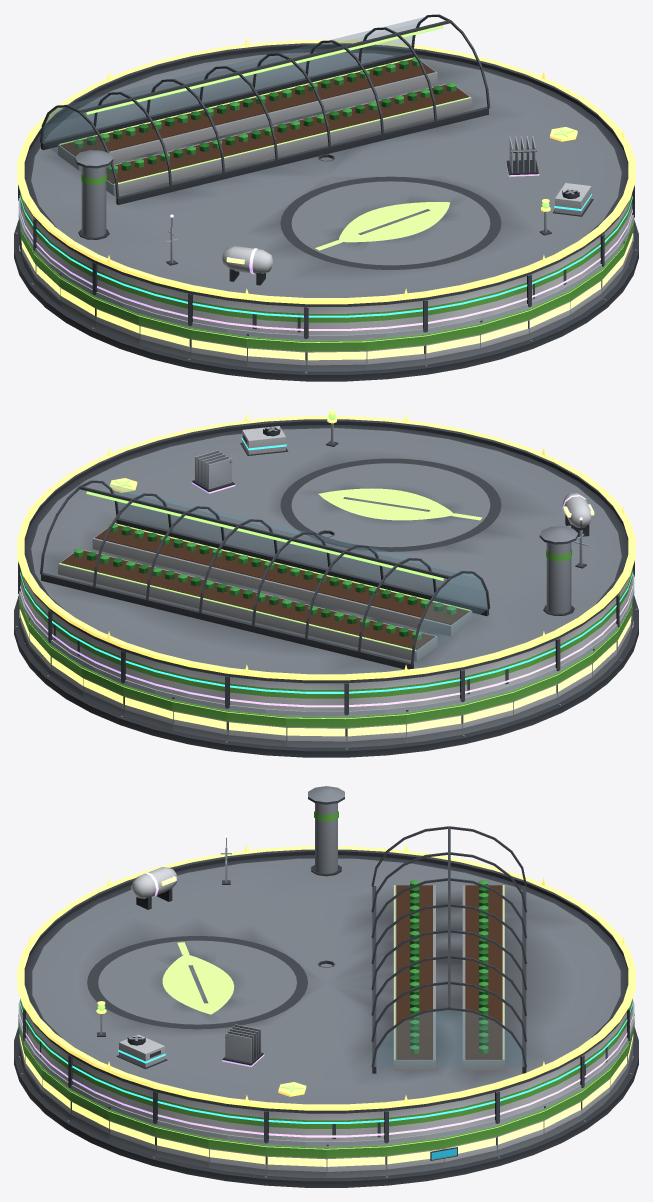
Rendered from kitchen_xl.glb.
3 views of the same model, one above another, from view 1: azimuth 30°, elevation 25°; view 2: azimuth 150°, elevation 25°; view 3: azimuth 270°, elevation 25° (orthographic).
Parts seen in each view (by area): view 1: Roof, Base, L4, Wall_21, Wall_20, Wall_22, Wall_19, Wall_23, Wall_18, Wall_24, Upper_22, Upper_21 (+20 smaller); view 2: Roof, Base, L4, Wall_11, Wall_10, Wall_09, Wall_12, Wall_08, Wall_13, Wall_07, Upper_10, Upper_09 (+23 smaller); view 3: Roof, Base, L4, Wall_00, Wall_31, Wall_30, Wall_01, Wall_29, Wall_02, Upper_31, Wall_28, Wall_03 (+19 smaller).
Part boxes in pixels (<box>): Roof: <box>24,14,628,306</box>; Base: <box>14,219,638,381</box>; L4: <box>222,136,539,285</box>; Wall_21: <box>306,338,366,371</box>; Wall_20: <box>246,334,306,371</box>; Wall_22: <box>366,333,425,370</box>; Wall_19: <box>190,326,246,367</box>; Wall_23: <box>425,322,480,364</box>; Wall_18: <box>139,313,190,358</box>; Wall_24: <box>480,308,529,353</box>; Upper_22: <box>366,300,425,333</box>; Upper_21: <box>306,306,366,338</box>; Roof: <box>24,419,628,683</box>; Base: <box>14,595,638,757</box>; L4: <box>191,450,594,536</box>; Wall_11: <box>346,711,406,747</box>; Wall_10: <box>286,714,346,747</box>; Wall_09: <box>227,709,286,746</box>; Wall_12: <box>406,703,462,743</box>; Wall_08: <box>172,697,227,740</box>; Wall_13: <box>462,689,513,734</box>; Wall_07: <box>123,684,172,730</box>; Upper_10: <box>286,682,346,714</box>; Upper_09: <box>227,676,286,709</box>; Roof: <box>24,786,628,1113</box>; Base: <box>14,1027,638,1187</box>; L4: <box>131,867,264,1066</box>; Wall_00: <box>326,1144,386,1177</box>; Wall_31: <box>266,1144,326,1177</box>; Wall_30: <box>208,1136,266,1175</box>; Wall_01: <box>386,1136,444,1175</box>; Wall_29: <box>155,1124,208,1167</box>; Wall_02: <box>444,1124,497,1167</box>; Upper_31: <box>266,1111,326,1142</box>; Wall_28: <box>108,1107,155,1156</box>; Wall_03: <box>497,1108,544,1156</box>.
Size of the model in its own units: 21.95 by 5.94 by 21.95.
